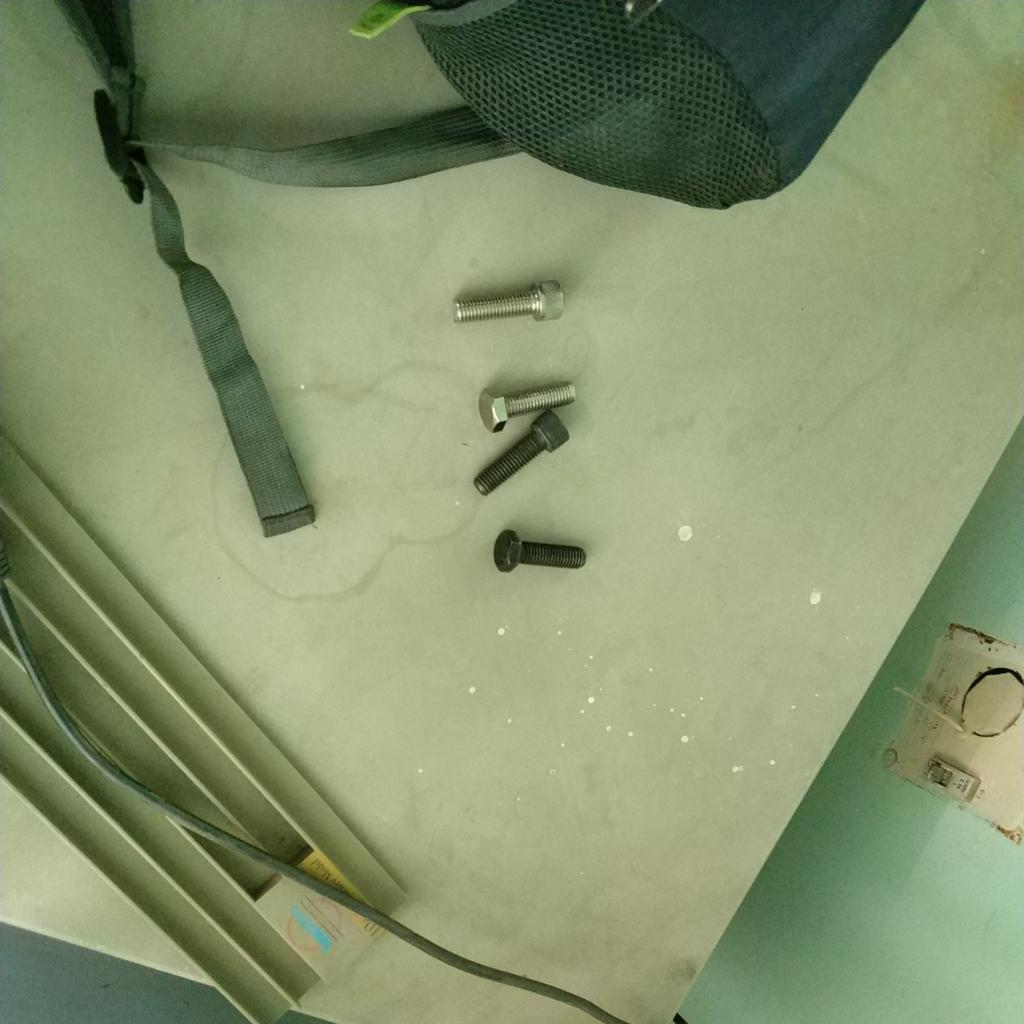screwtype1black: (471, 411, 571, 498)
screwtype1silver: (449, 273, 563, 328)
screwtype2black: (490, 524, 589, 581)
screwtype2silver: (472, 375, 580, 435)
